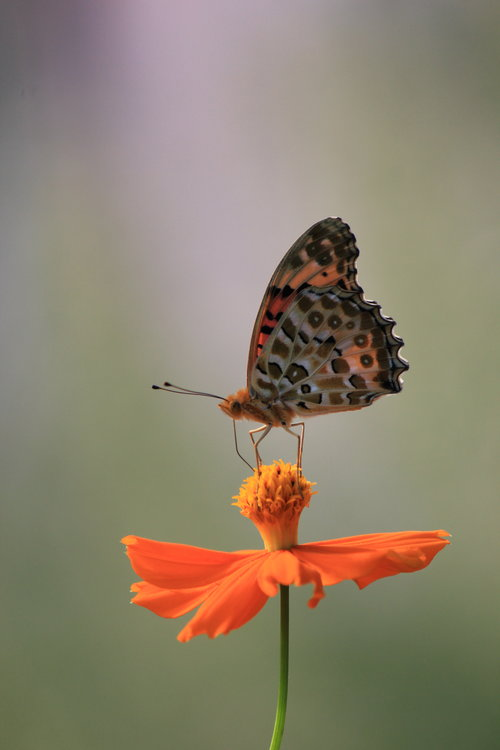Argyreus hyperbius: (147, 212, 413, 503)
butterfly: (149, 214, 415, 505)
